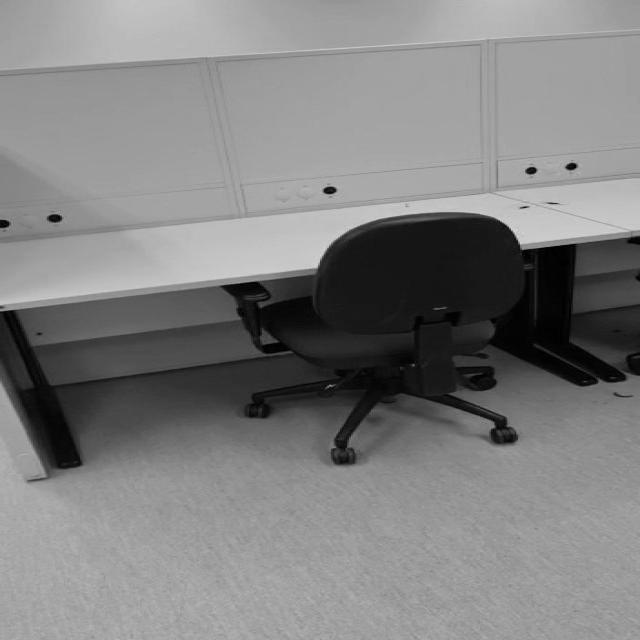cadeira-azul: (220, 212, 522, 466)
